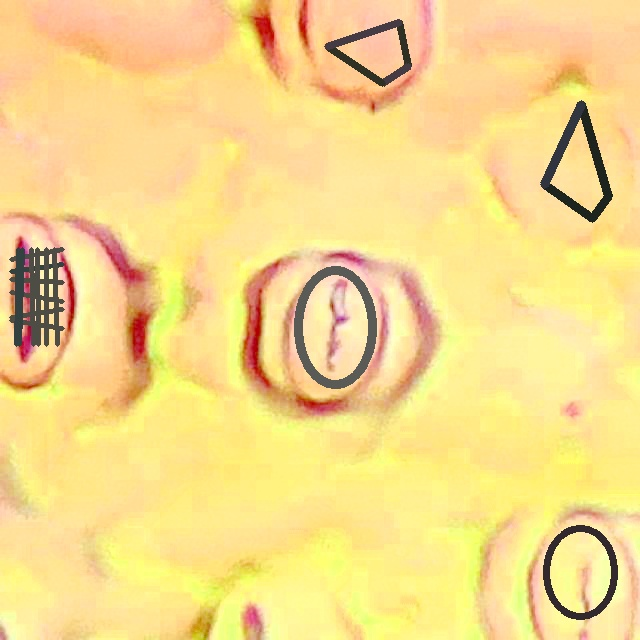close: (292, 266, 378, 388), (541, 101, 612, 222), (542, 524, 618, 620), (324, 19, 411, 86)
open: (9, 247, 64, 346)
